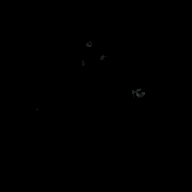v: (80, 38, 108, 67)
